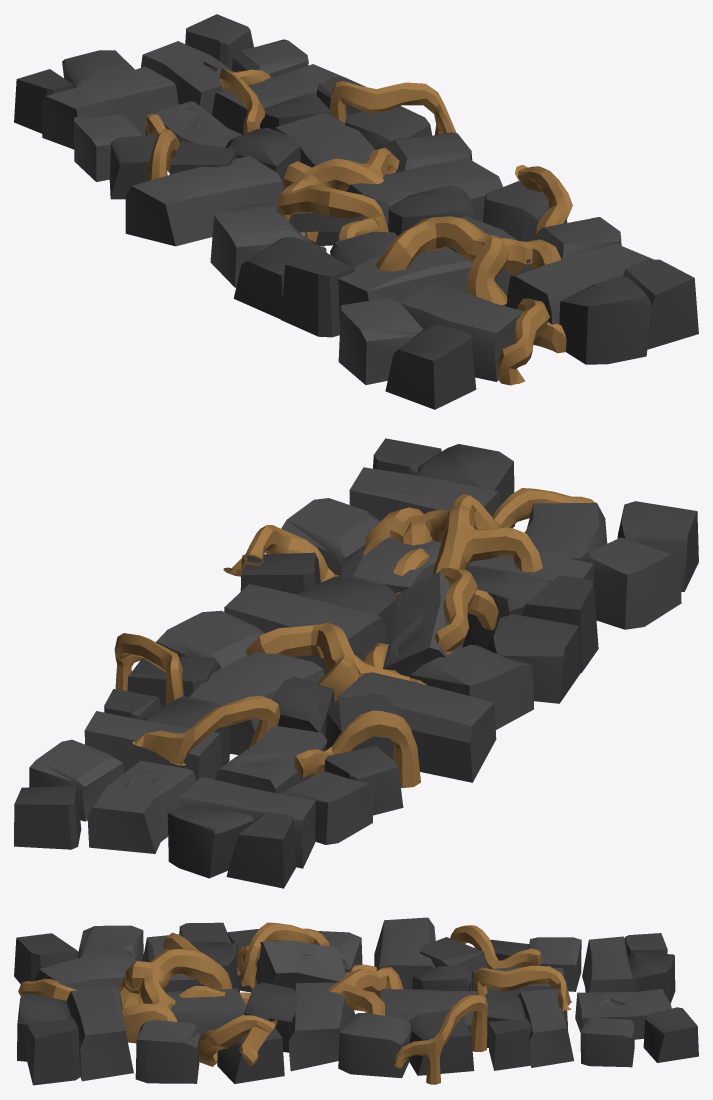
The model's file is ea01_env_road_cobble_01a_pre_1_lev1.glb.
3 renders of one model, top to bottom at view 1: azimuth 30°, elevation 25°; view 2: azimuth 150°, elevation 25°; view 3: azimuth 270°, elevation 25°, orthographic. The views are drawn at different scales.
Visible parts, largest first — view 1: ea01_env_road_cobble_01a_pre_1_lev1; view 2: ea01_env_road_cobble_01a_pre_1_lev1; view 3: ea01_env_road_cobble_01a_pre_1_lev1.
Boxes of the visible parts, left/top/right/bottom form: ea01_env_road_cobble_01a_pre_1_lev1: left=14, top=14, right=698, bottom=409; ea01_env_road_cobble_01a_pre_1_lev1: left=14, top=438, right=698, bottom=888; ea01_env_road_cobble_01a_pre_1_lev1: left=14, top=917, right=698, bottom=1085.
Size of the model in its own units: 2.73 by 0.7482 by 5.93.
Materials: 1 (1 with a texture image).
